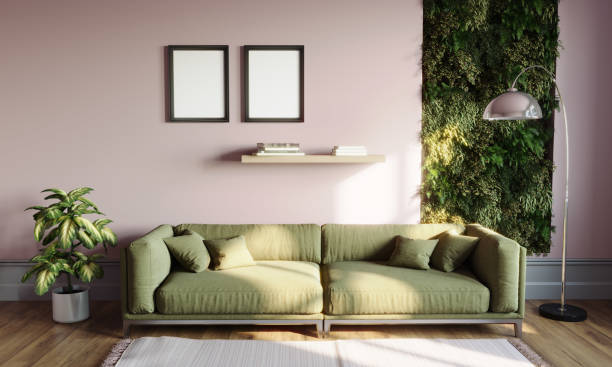floor lamp: (481, 65, 589, 322)
large plant: (19, 186, 119, 326)
sofa: (120, 219, 527, 339)
wall art: (161, 43, 231, 124), (238, 42, 307, 123)
